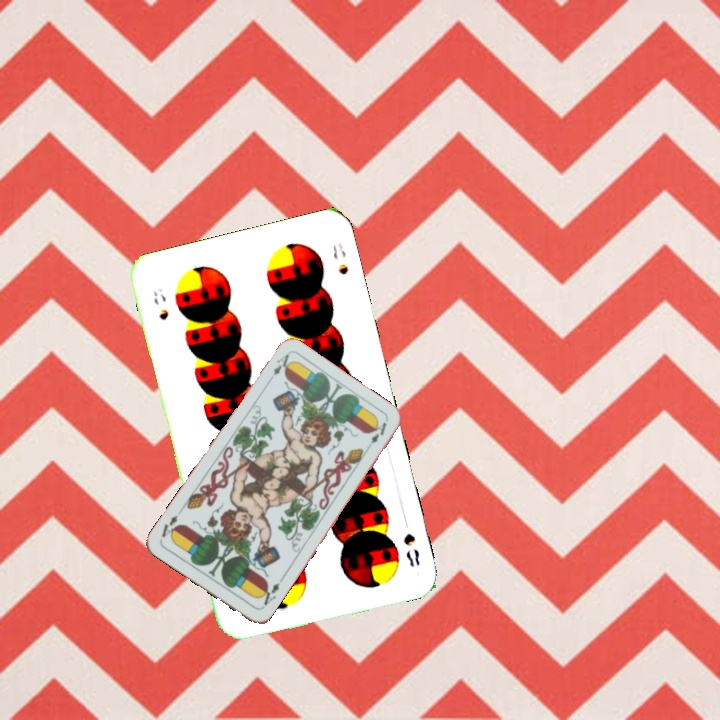EA: (255, 575, 286, 611), (263, 350, 294, 386)
S8: (399, 529, 423, 570), (149, 284, 172, 323)
